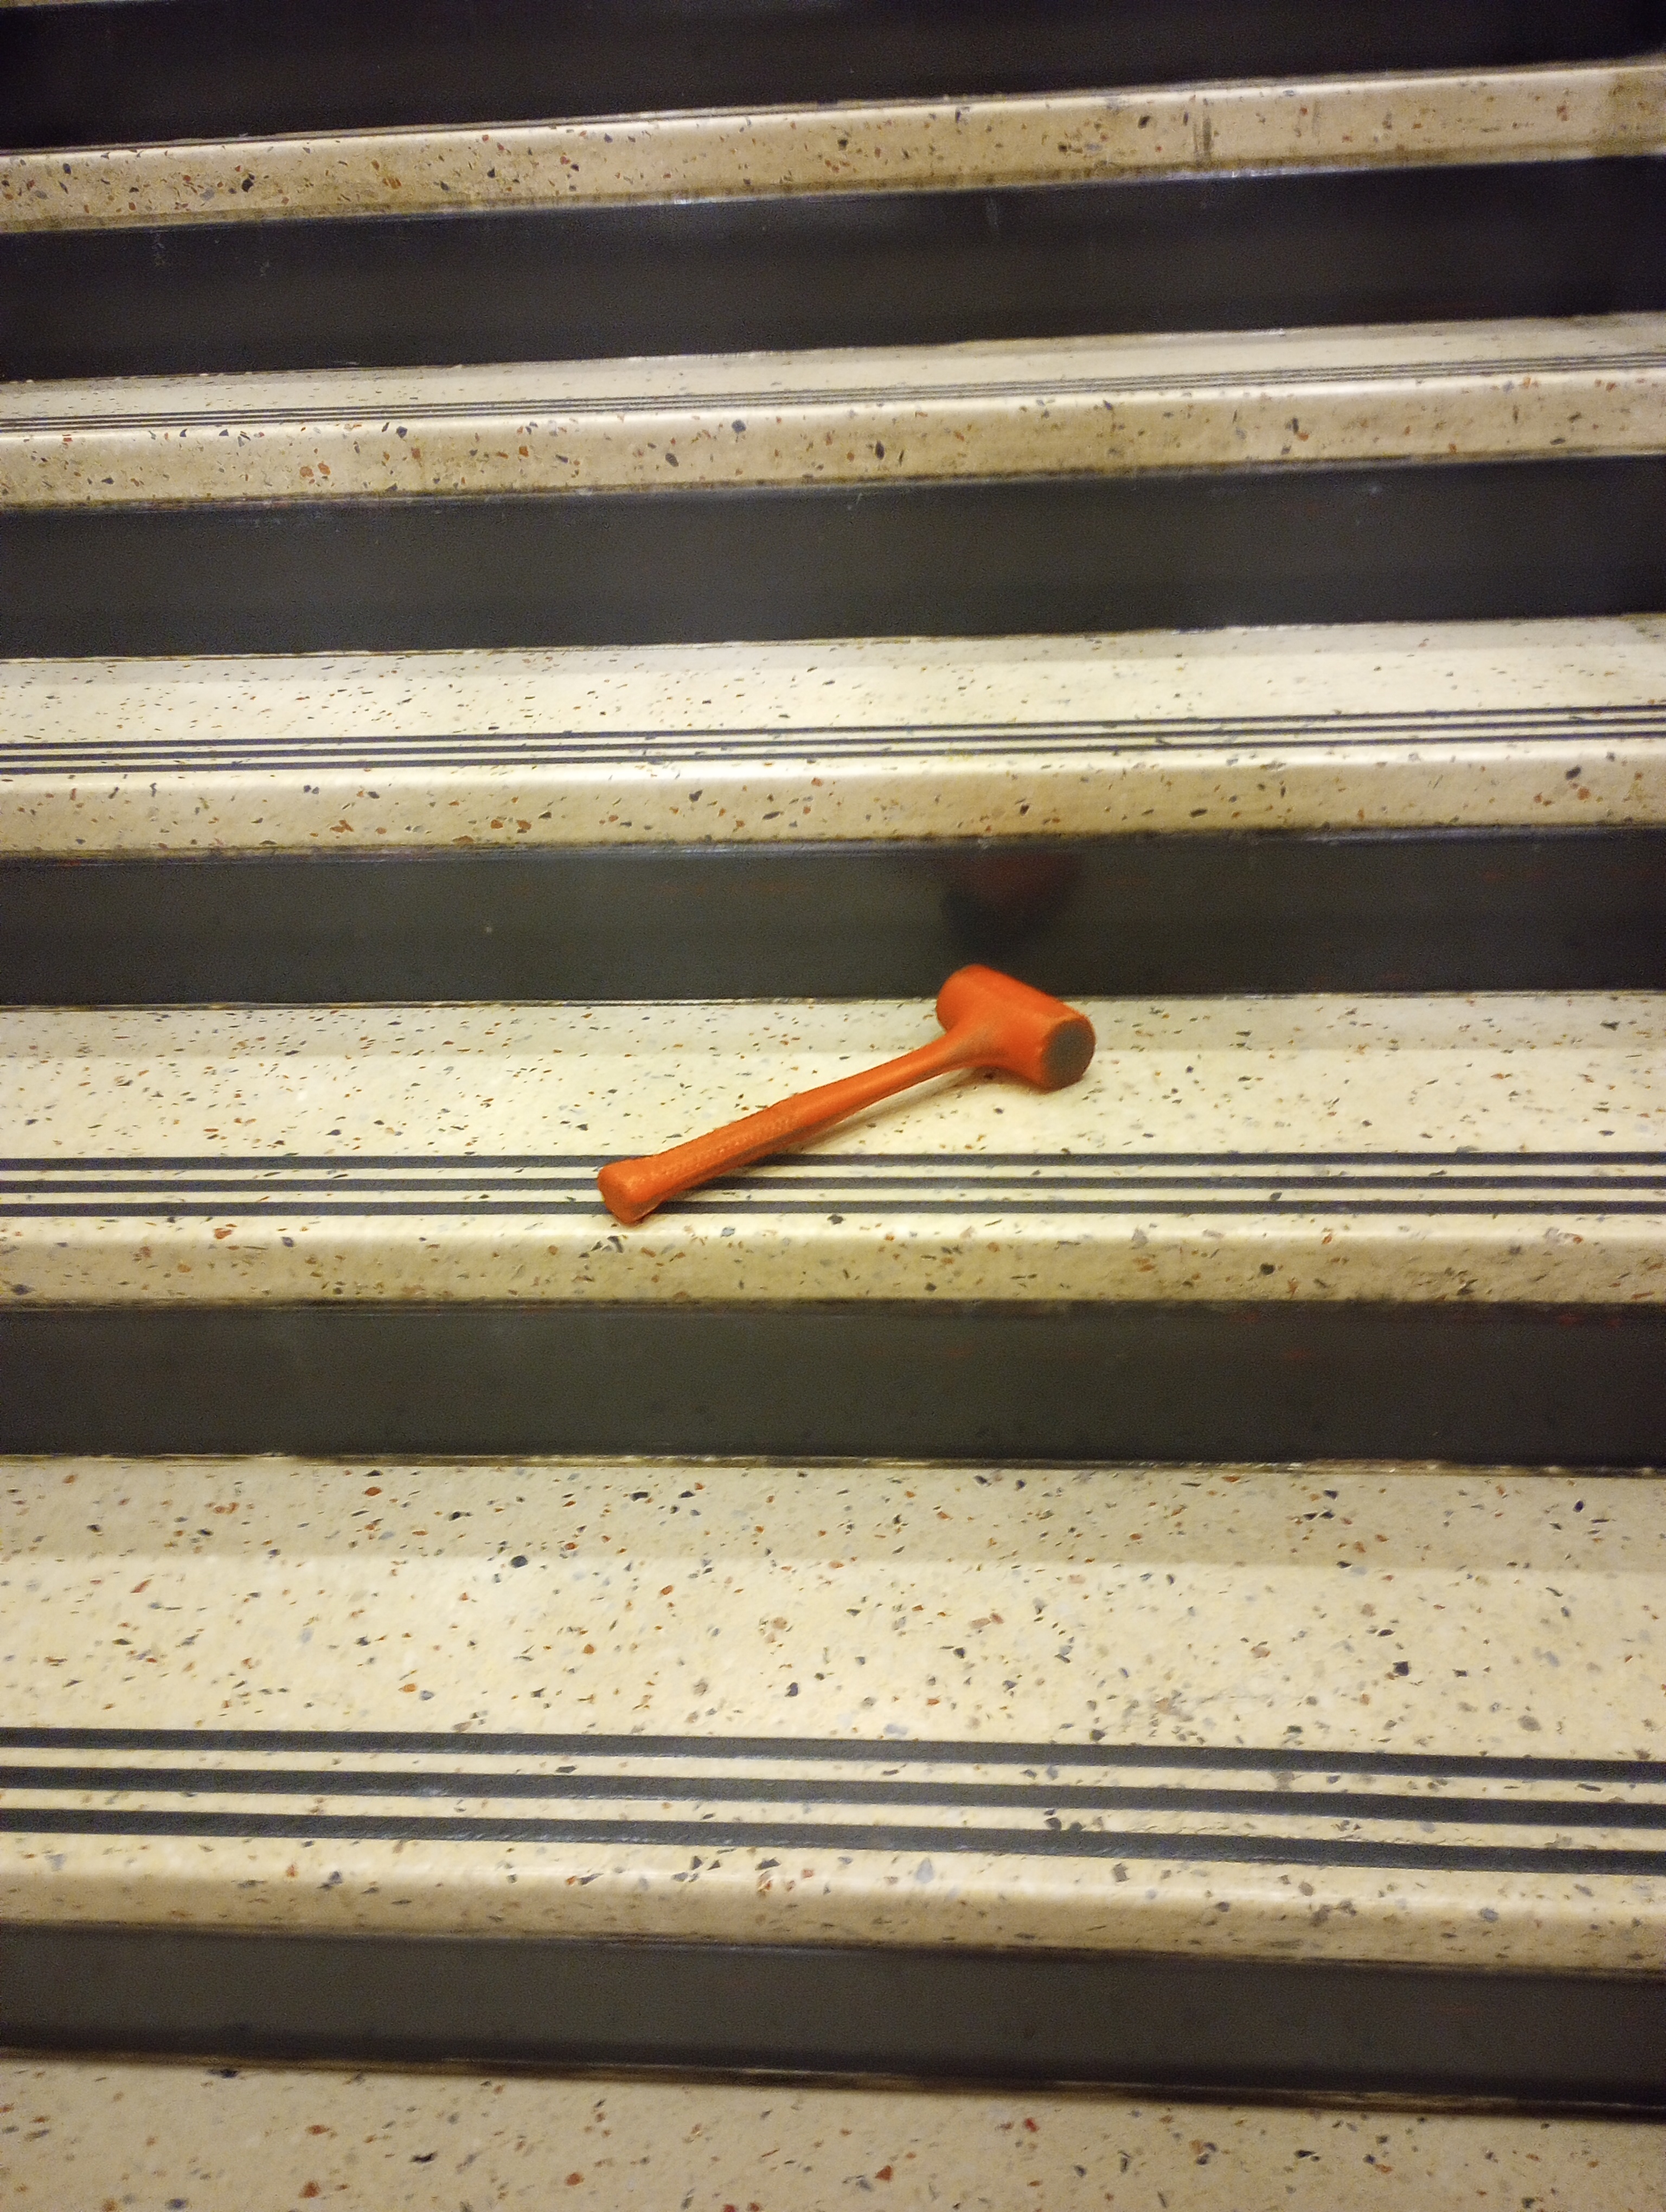bottle: (595, 953, 1097, 1236)
